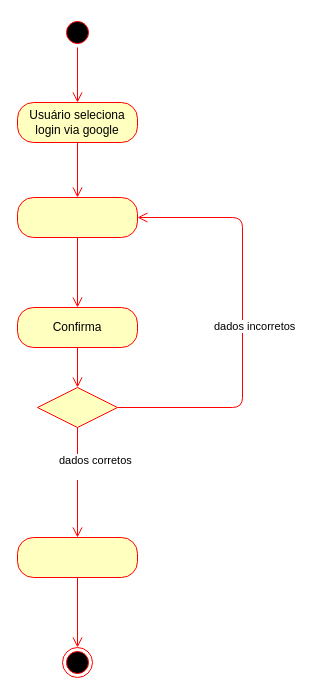
This 313x695 diagram has some shape labels left out. The centre of each missing label's shape, as x and y in pixels:
"Aplicação abre a tela principal" belongs at pixel 77 557.
"Escrever e-mail e senha" belongs at pixel 77 217.
